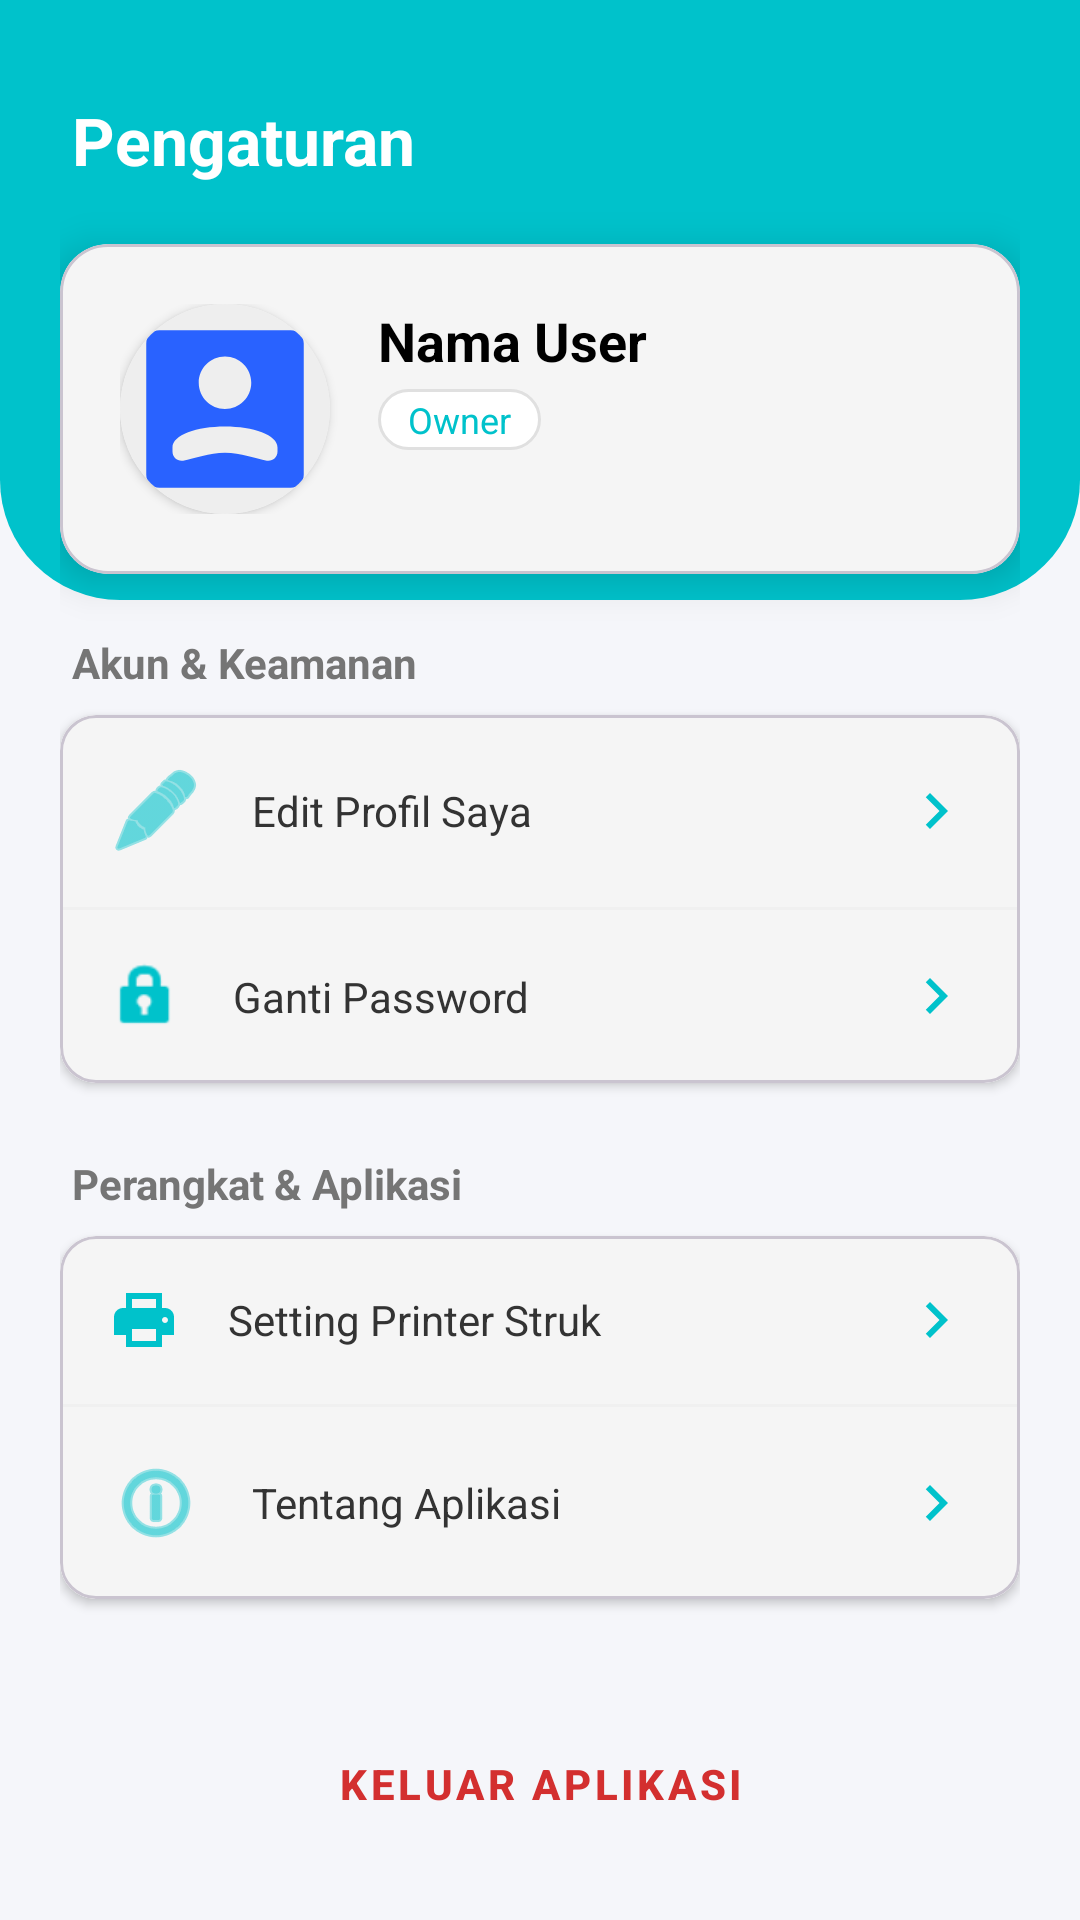

Point at icon controls on the screen. Image size 1080 x 1920, points as [x,y].
karyawan: [212,422]
